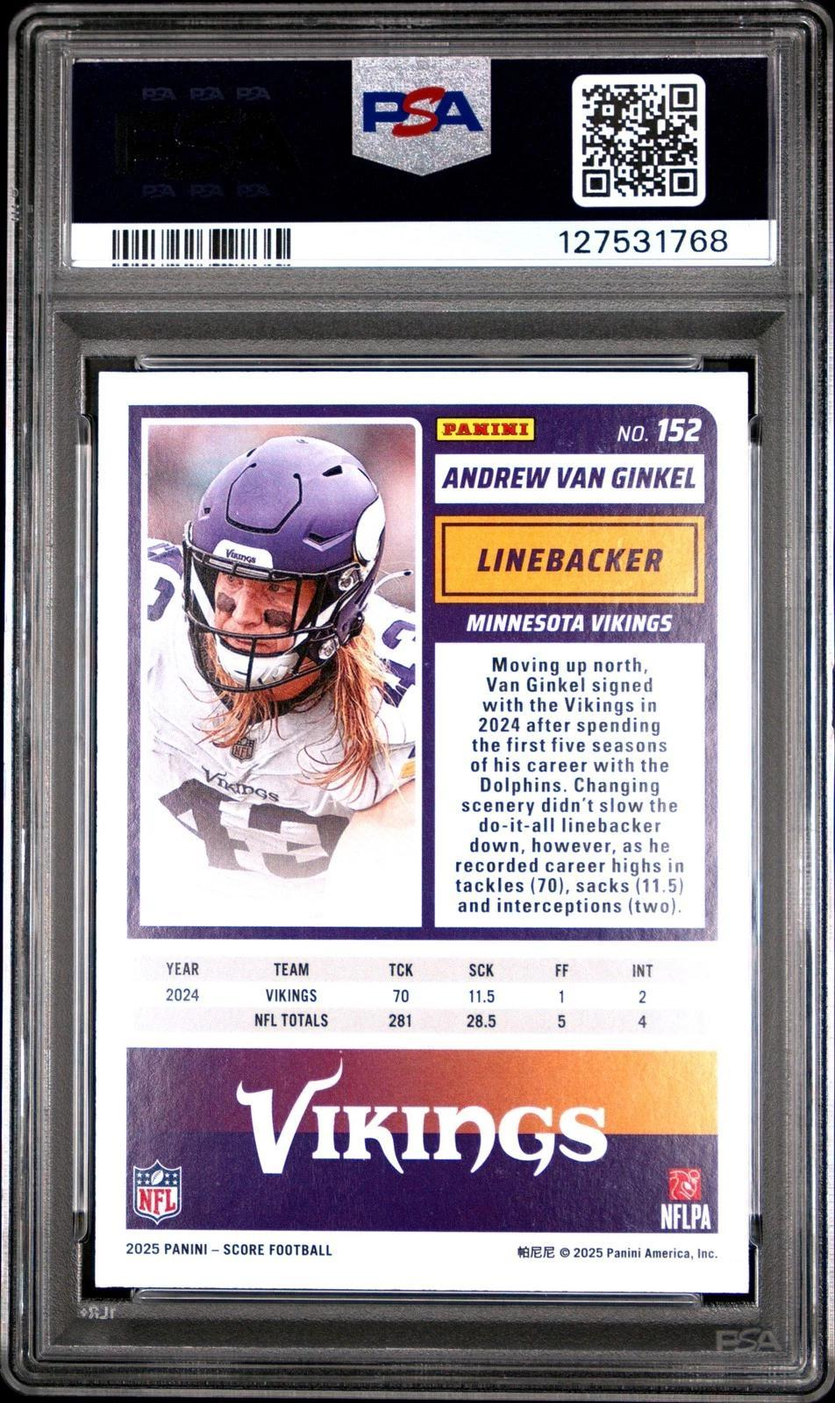card-2UtV: (95, 371, 749, 1294)
